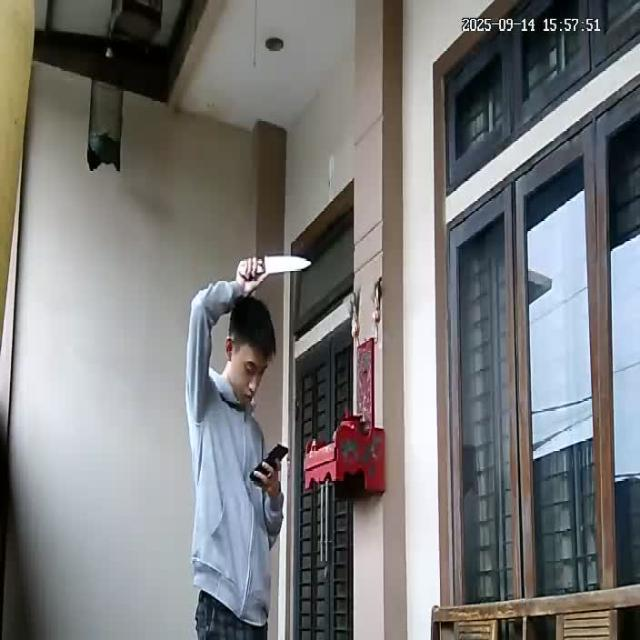senjata_tajam: (263, 254, 316, 276)
